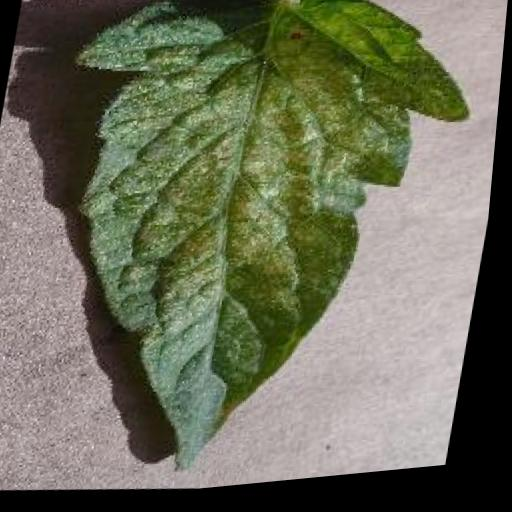Spider Mites: (8, 0, 497, 509)
